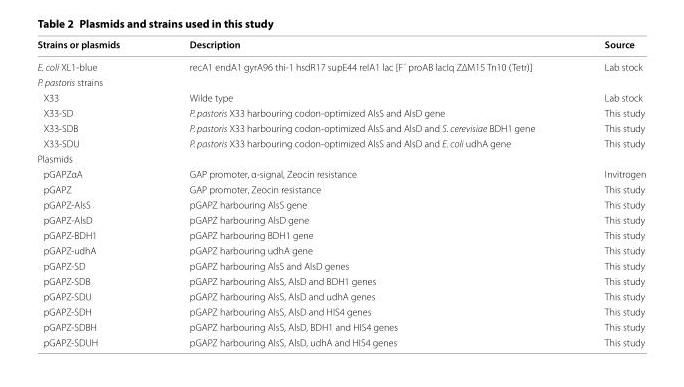table: (36, 37, 645, 347)
table column: (154, 37, 569, 347), (36, 37, 154, 347), (569, 37, 645, 347)
table column header: (36, 37, 645, 55)
table projected row header: (36, 150, 645, 166), (36, 74, 645, 89)
table row: (36, 55, 645, 74), (36, 37, 645, 55), (36, 104, 645, 120), (36, 150, 645, 166), (36, 211, 645, 227), (36, 257, 645, 273), (36, 318, 645, 334), (36, 74, 645, 89), (36, 89, 645, 104), (36, 120, 645, 135), (36, 135, 645, 150), (36, 166, 645, 181), (36, 181, 645, 196), (36, 196, 645, 211), (36, 227, 645, 242), (36, 242, 645, 257), (36, 273, 645, 288), (36, 288, 645, 303), (36, 303, 645, 318), (36, 334, 645, 347)
